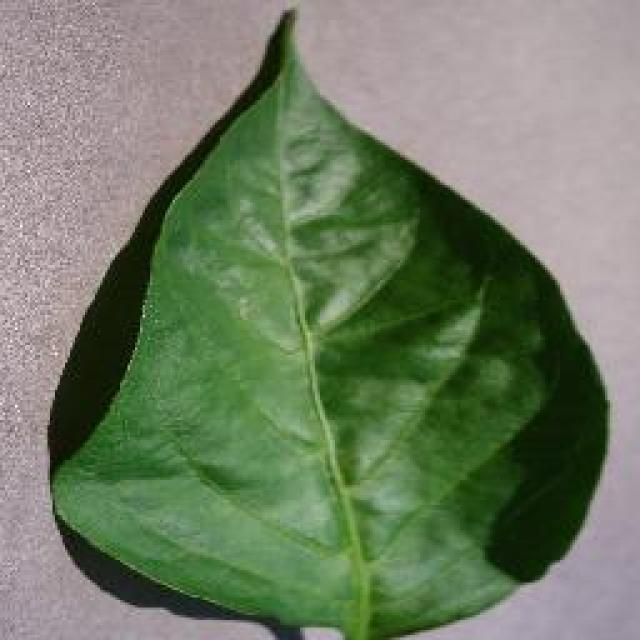Chilli_Healthy: (45, 5, 610, 637)
